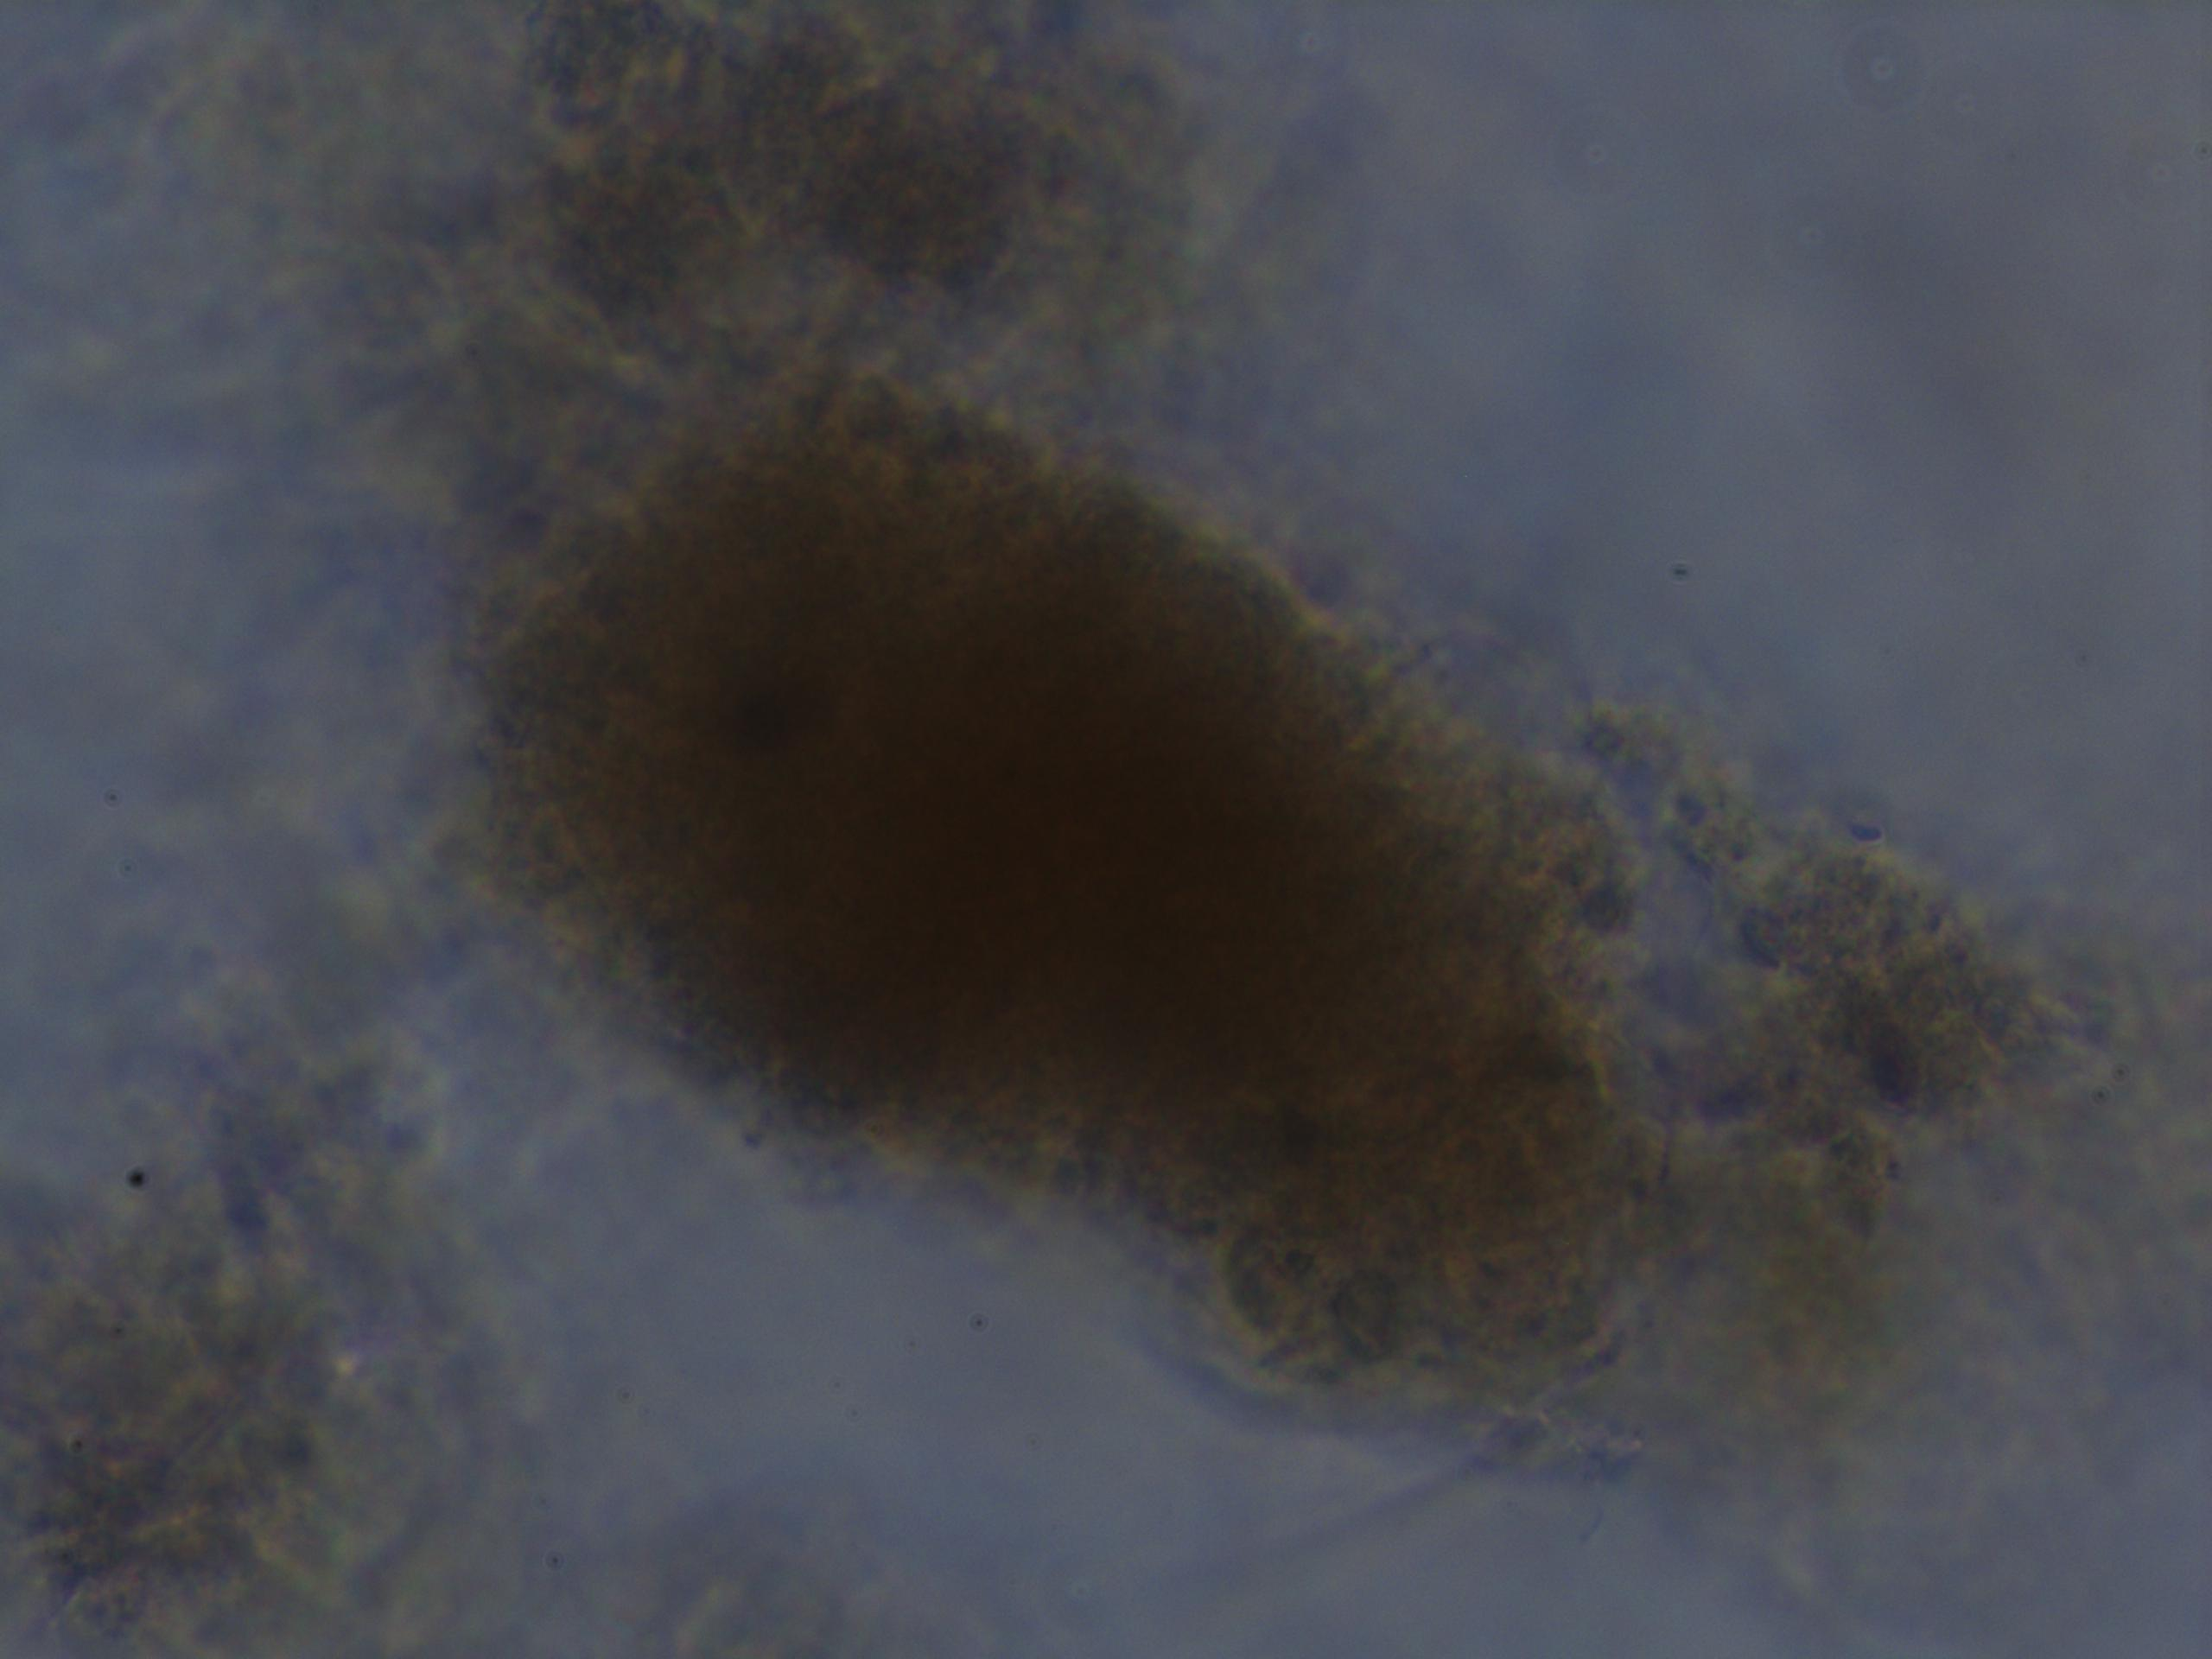spherical_floc: (470, 354, 1717, 1408)
